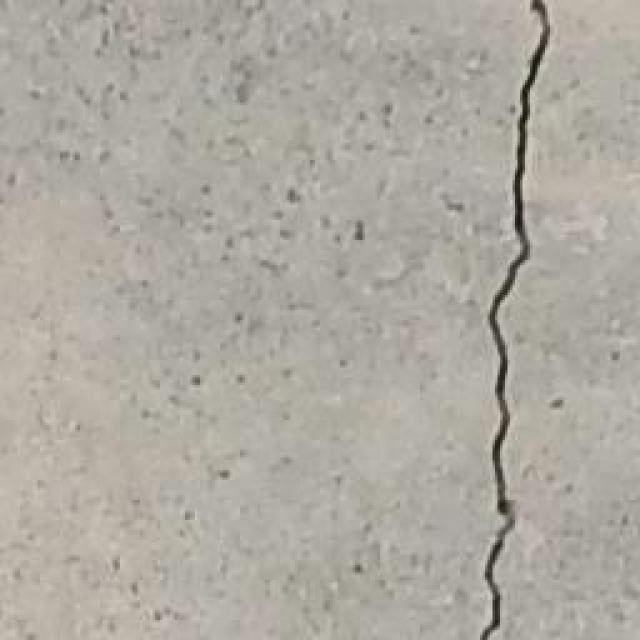concrete-crack: (480, 0, 550, 640)
